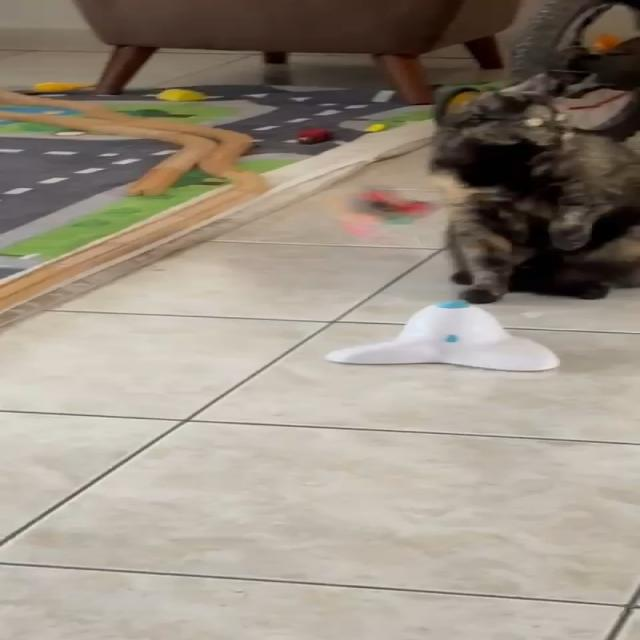authorized: (426, 37, 638, 303)
